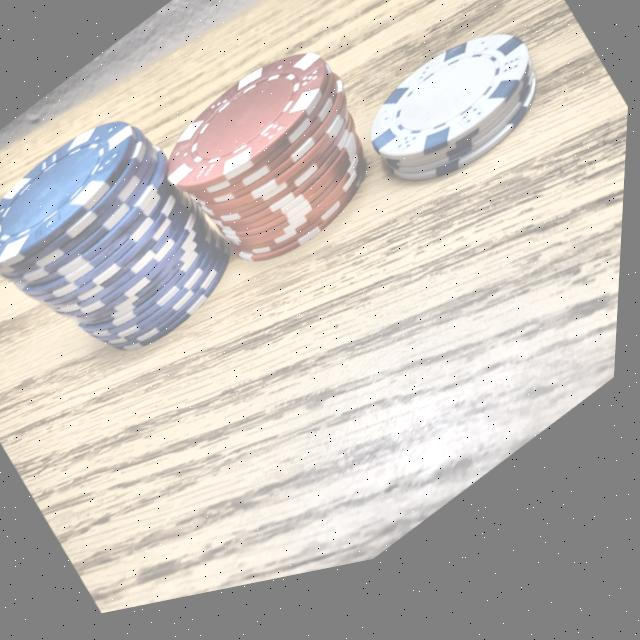Chip: (0, 45, 284, 452), (127, 0, 423, 341), (330, 0, 580, 261)
